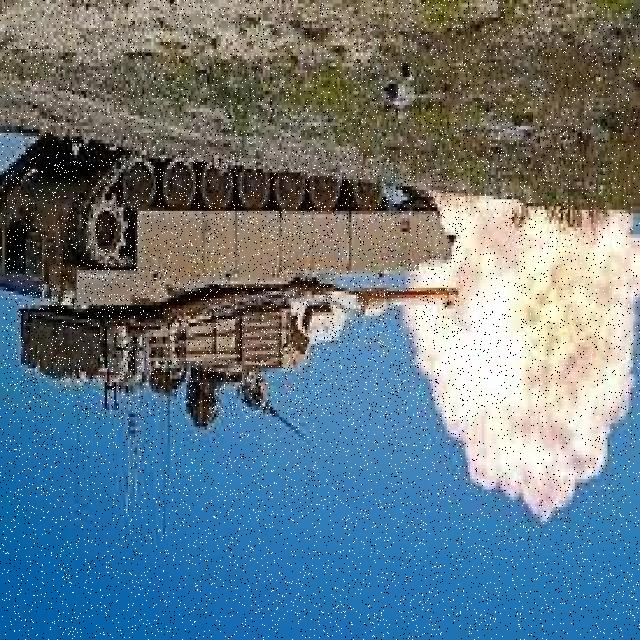MIL_MBT: (6, 153, 464, 418)
